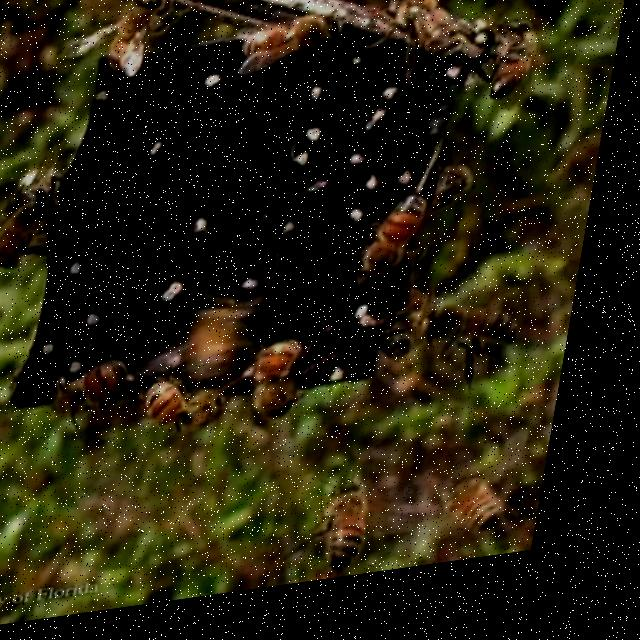Apis-mellifera-scutellata: (298, 478, 422, 592), (352, 170, 450, 313), (222, 7, 360, 98), (433, 295, 542, 407), (364, 0, 480, 103), (0, 161, 95, 283), (47, 339, 154, 438), (78, 0, 175, 101), (441, 473, 541, 561), (357, 315, 441, 417), (254, 342, 339, 438), (495, 9, 552, 126), (150, 367, 224, 447)
